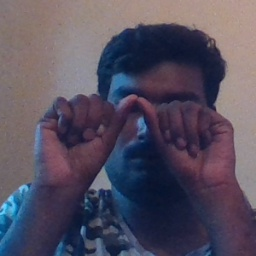A: (51, 90, 211, 187)
